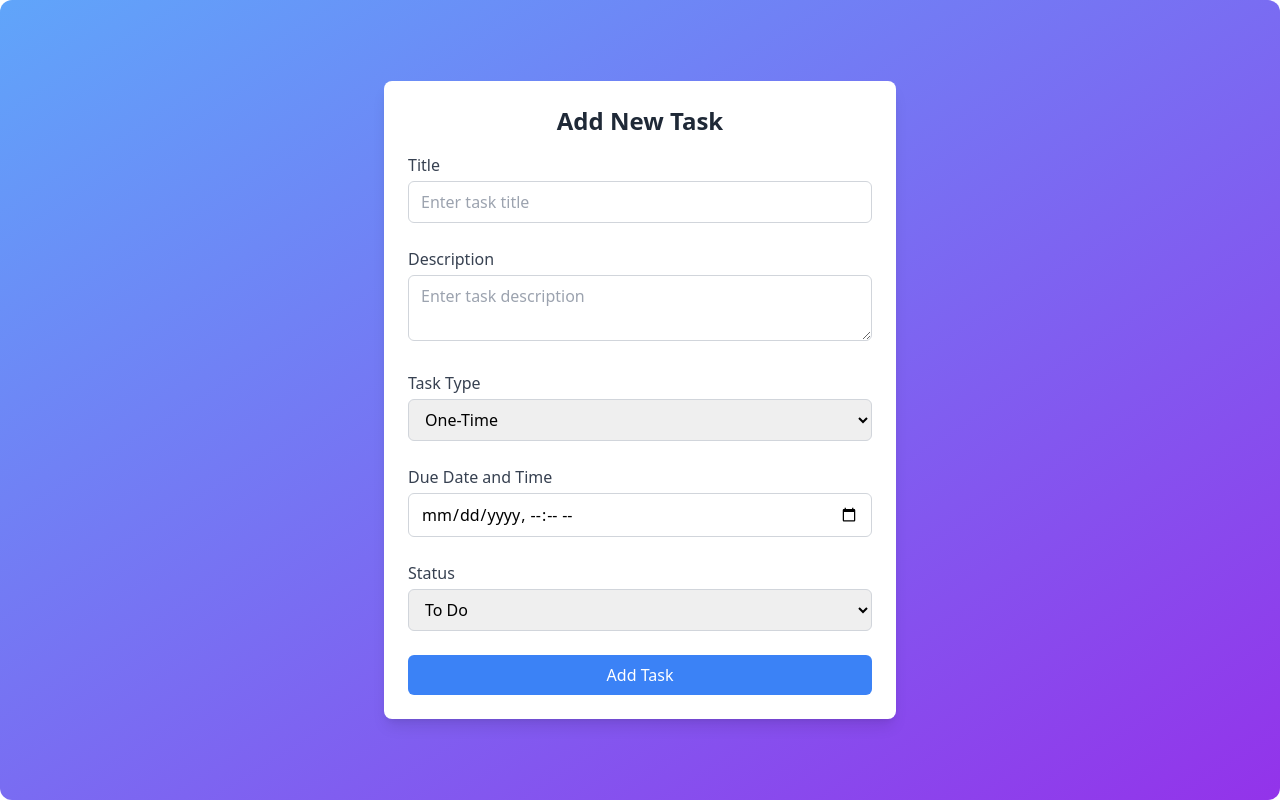
Test: TaskForm Component › displays cron expression input when task type is recurring
Select "Recurring" in the dropdown labelled "Task Type" at coordinates (640, 420), box top-left (408, 399), bottom-right (872, 441)
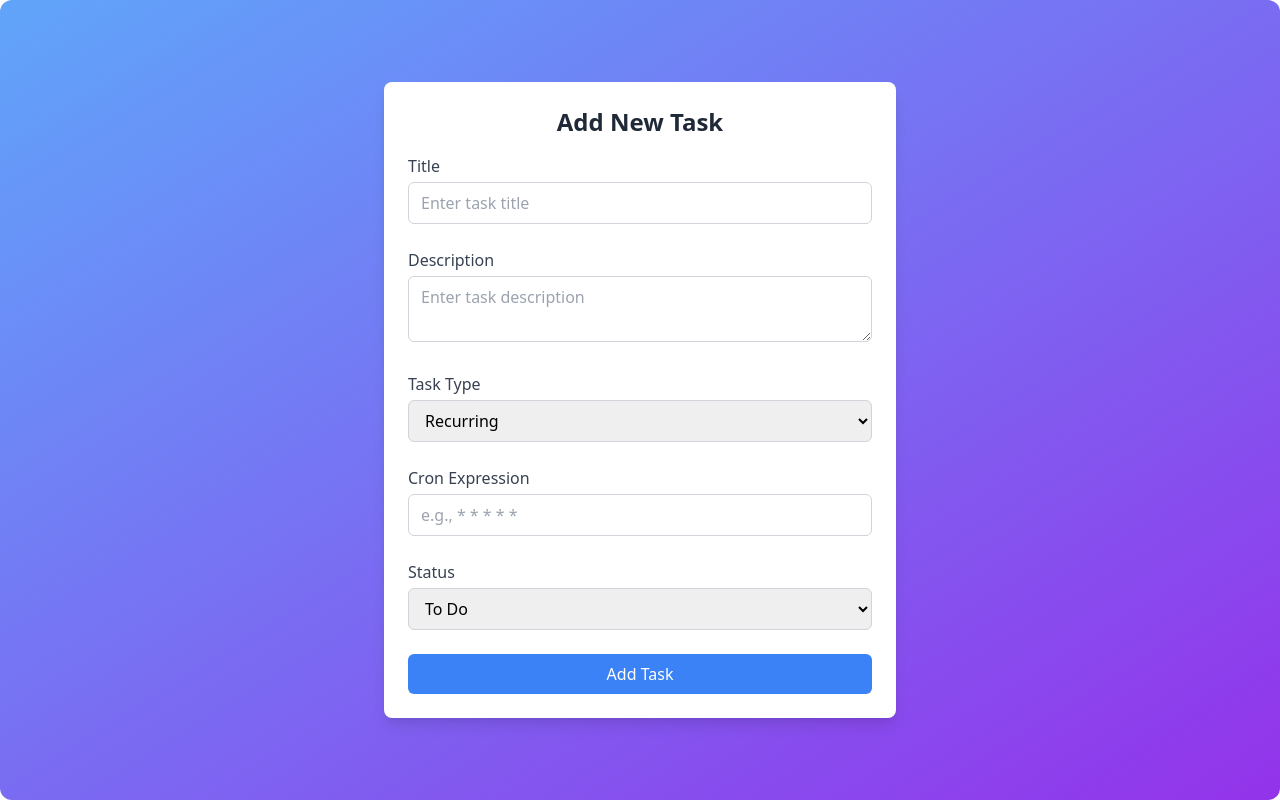
Expected: the field labelled "Cron Expression" is shown, top-left (408, 494), bottom-right (872, 536)
Expected: the label labelled "Due Date and Time" is gone
